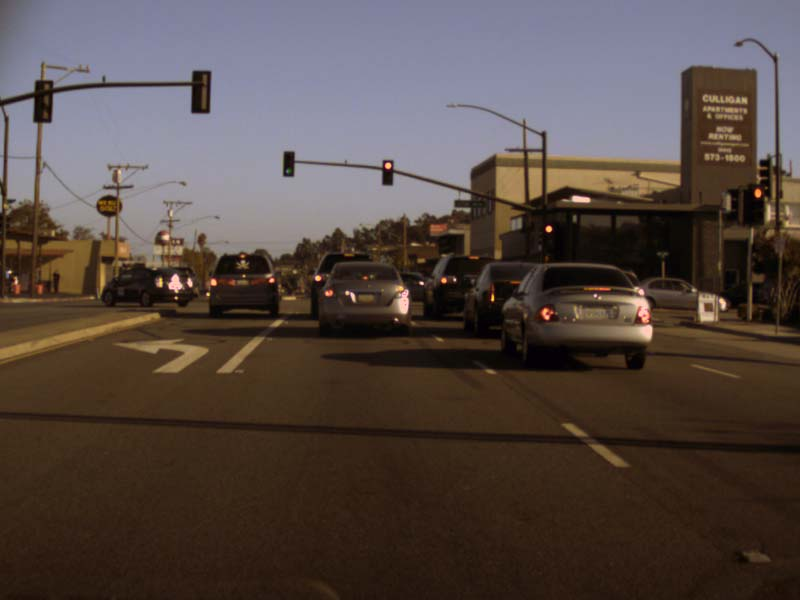Green: (283, 151, 293, 176)
Red: (750, 184, 764, 225), (382, 160, 393, 185), (543, 222, 554, 246)
